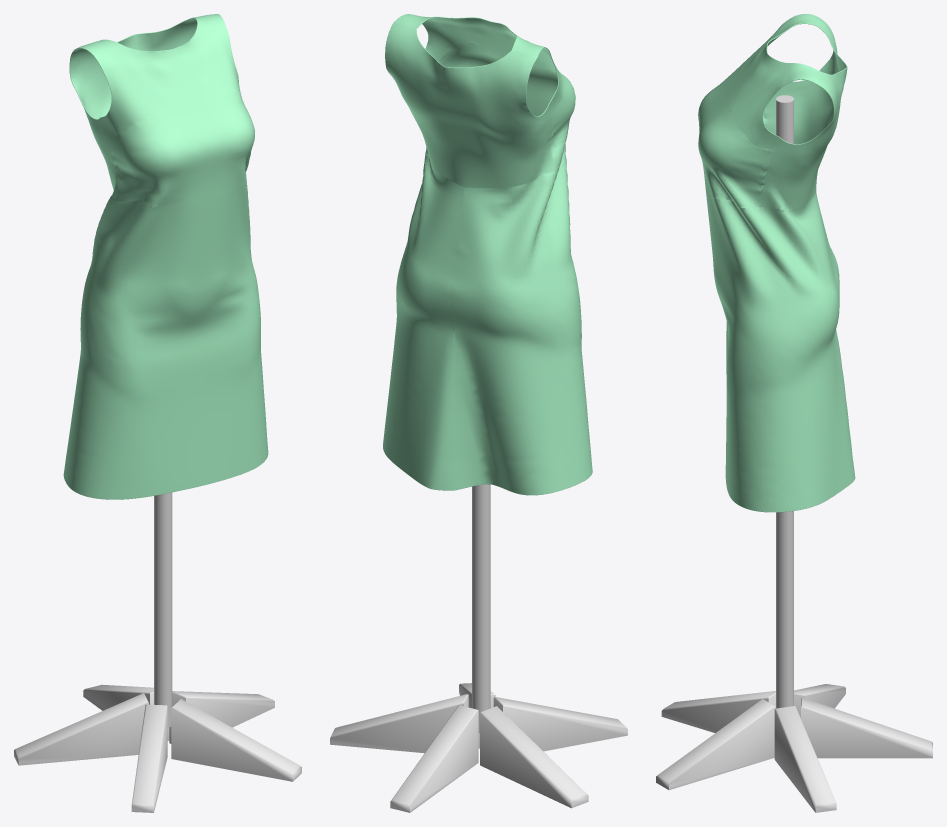
File: Dress 17.fbx
3 views of the same model, side by side, from view 1: azimuth 30°, elevation 25°; view 2: azimuth 150°, elevation 25°; view 3: azimuth 270°, elevation 25° (orthographic). The views are drawn at different scales.
Visible parts, largest first — view 1: Pattern2D_5105901, Pattern2D_1555215, Cube_3, Cube_1, Pattern2D_1553374, Cylinder, Cube_2, Cube_4, Cube_5; view 2: Pattern2D_5105901, Pattern2D_1553374, Pattern2D_1555215, Cube_1, Cube_5, Cylinder, Cube_4, Cube_2; view 3: Pattern2D_5105901, Pattern2D_1555215, Pattern2D_1553374, Cube_3, Cube_5, Cylinder, Cube_4, Cube_2, Cube_1.
Part boxes in pixels (x1=…): Pattern2D_5105901: x1=63, y1=183, x2=268, y2=499; Pattern2D_1555215: x1=78, y1=14, x2=254, y2=206; Cube_3: x1=171, y1=699, x2=301, y2=781; Cube_1: x1=14, y1=693, x2=148, y2=765; Pattern2D_1553374: x1=69, y1=18, x2=196, y2=196; Cylinder: x1=154, y1=492, x2=172, y2=727; Cube_2: x1=131, y1=704, x2=167, y2=812; Cube_4: x1=169, y1=691, x2=274, y2=743; Cube_5: x1=83, y1=684, x2=169, y2=740; Pattern2D_5105901: x1=383, y1=144, x2=592, y2=495; Pattern2D_1553374: x1=385, y1=22, x2=555, y2=187; Pattern2D_1555215: x1=394, y1=14, x2=575, y2=170; Cube_1: x1=480, y1=706, x2=588, y2=808; Cube_5: x1=390, y1=705, x2=478, y2=812; Cylinder: x1=472, y1=484, x2=490, y2=733; Cube_4: x1=330, y1=694, x2=468, y2=753; Cube_2: x1=493, y1=697, x2=627, y2=751; Pattern2D_5105901: x1=705, y1=183, x2=855, y2=512; Pattern2D_1555215: x1=698, y1=14, x2=817, y2=207; Pattern2D_1553374: x1=761, y1=16, x2=847, y2=209; Cube_3: x1=656, y1=699, x2=775, y2=790; Cube_5: x1=801, y1=697, x2=932, y2=758; Cylinder: x1=776, y1=95, x2=793, y2=708; Cube_4: x1=774, y1=706, x2=836, y2=812; Cube_2: x1=661, y1=691, x2=775, y2=732; Cube_1: x1=794, y1=684, x2=845, y2=717.
Size of the model in its own units: 436 by 1183 by 419.
